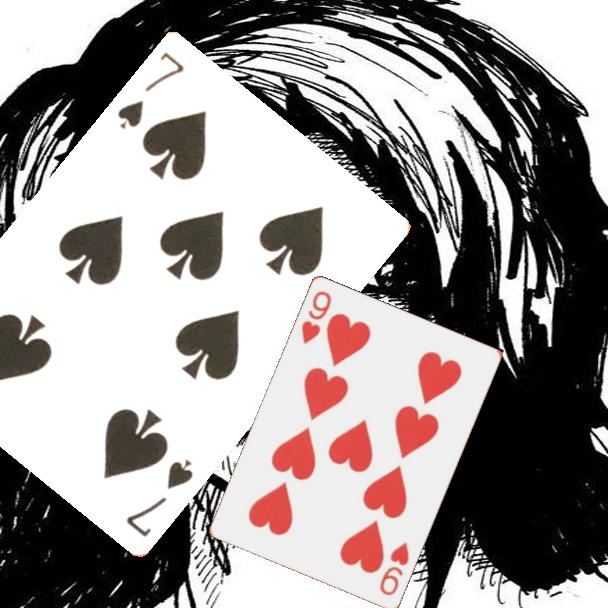h09: (298, 288, 335, 348), (376, 539, 412, 599)
s07: (122, 454, 196, 540), (114, 48, 188, 132)
